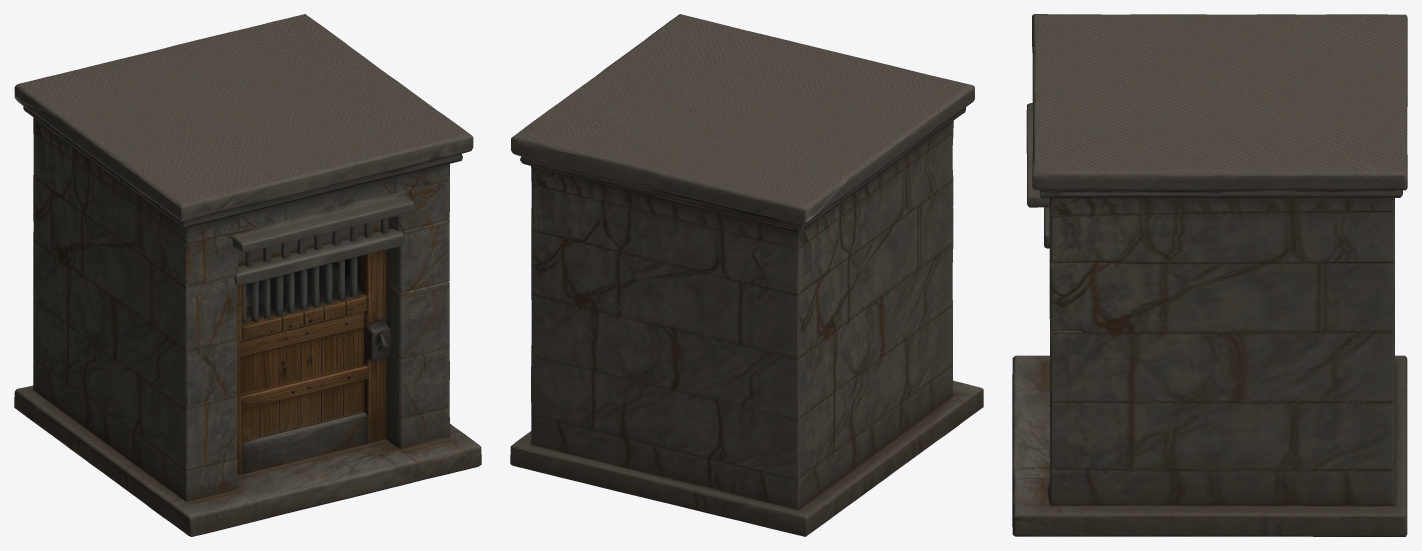
3 views of the same model, side by side, from view 1: azimuth 30°, elevation 25°; view 2: azimuth 150°, elevation 25°; view 3: azimuth 270°, elevation 25° (orthographic). The views are drawn at different scales.
Size of the model in its own units: 1.89 by 2 by 1.96.
Materials: 1 (1 with a texture image).
